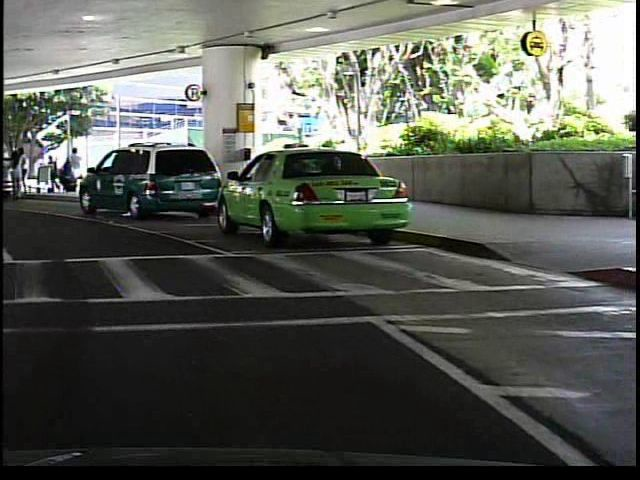person: (5, 150, 23, 201)
